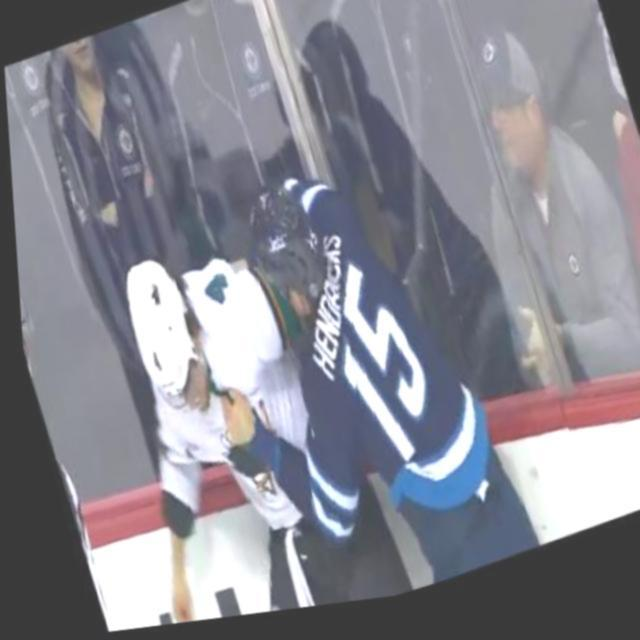fight: (49, 127, 520, 636)
